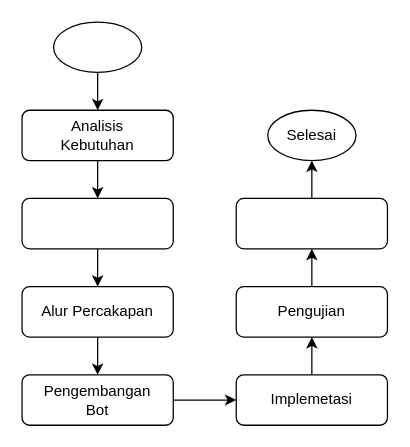
Image size: 410x447. Some labels were removed from this diagram. The centre of each missing label's shape, as x and y in pixels:
"Evaluasi" goes at (x=311, y=223).
"Mulai" goes at (x=97, y=46).
"Pemataan Proses Bisnis" goes at (x=97, y=223).
